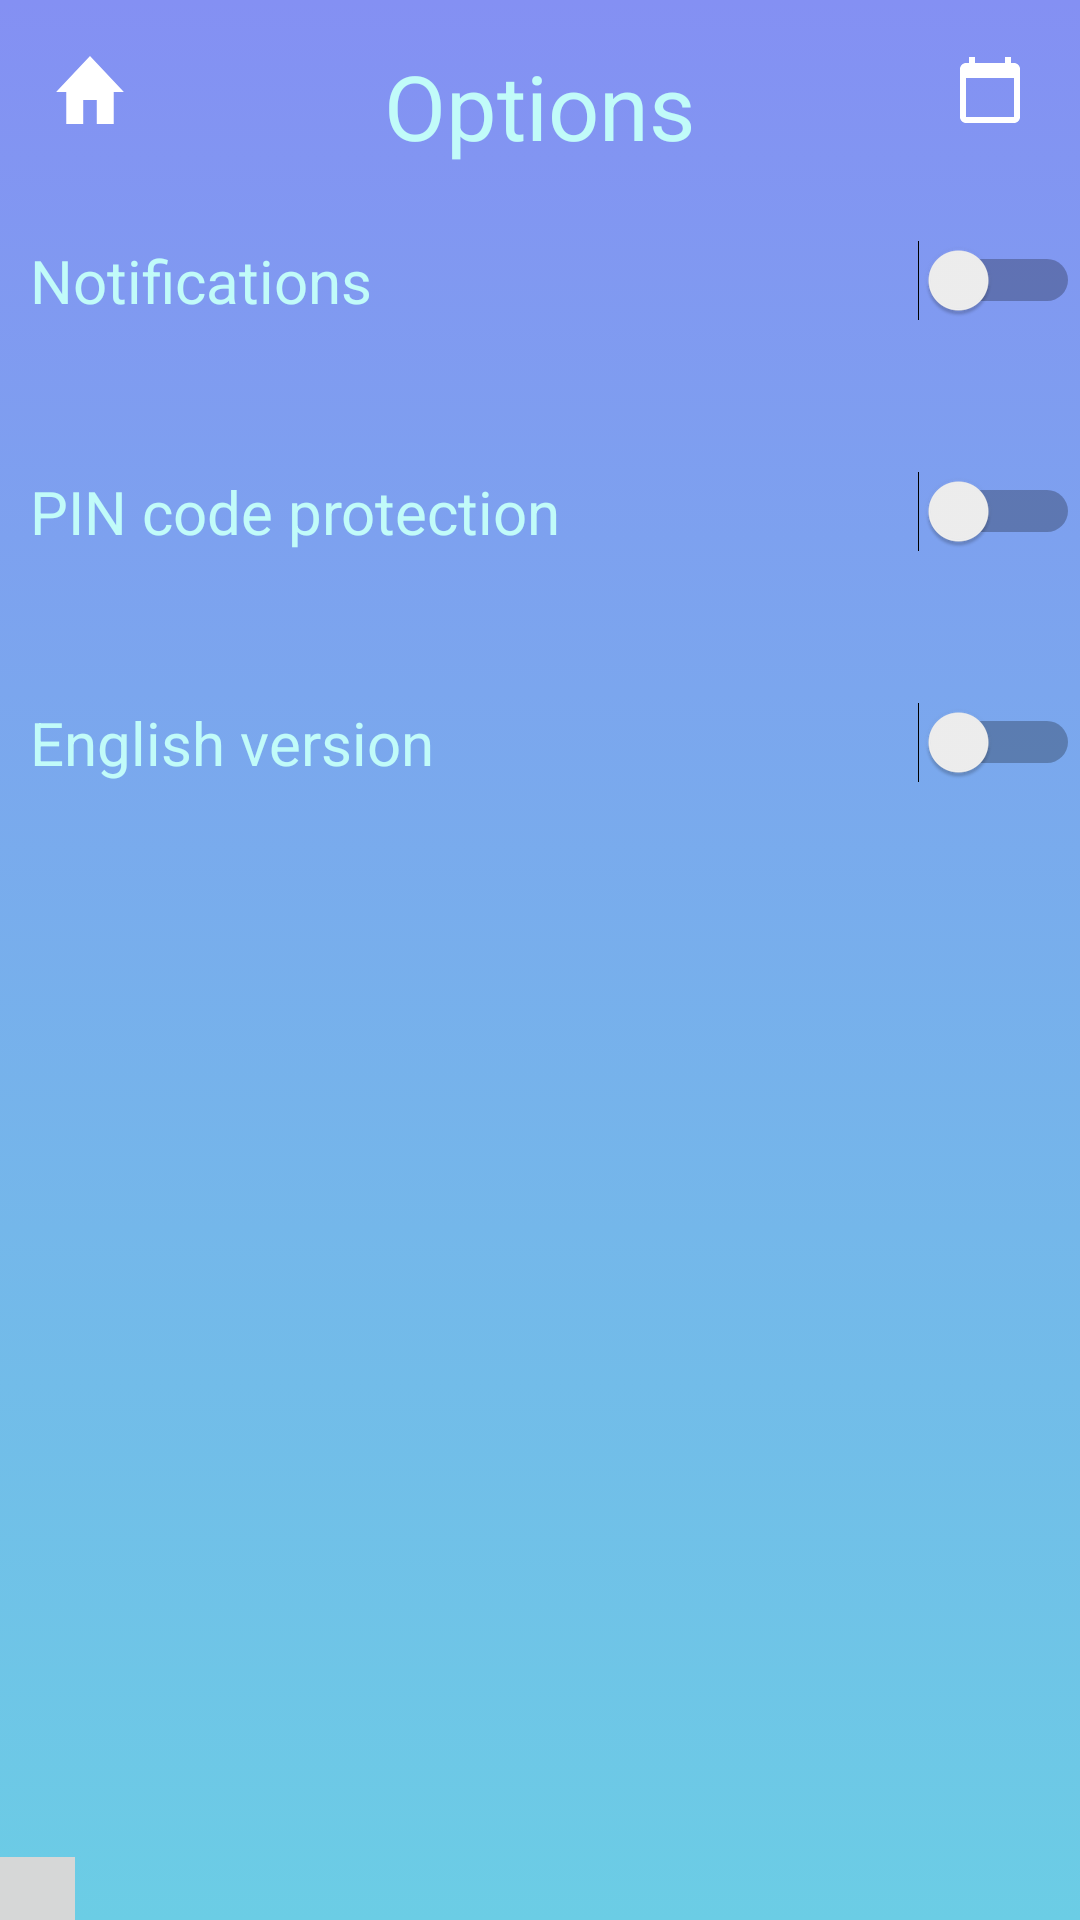

Point at icon controls on the screen. Image size 1080 × 1920, points as (x,y).
calendar: (990,90)
home: (90,90)
